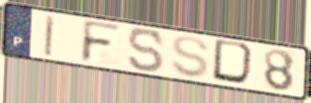8: (262, 48, 296, 93)
D: (210, 37, 259, 88)
F: (78, 18, 124, 65)
I: (43, 14, 57, 58)
S: (169, 35, 212, 80), (127, 27, 166, 74)
